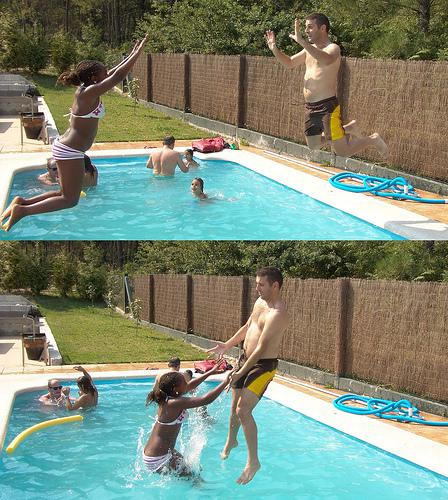human: (218, 262, 288, 479), (142, 361, 214, 481), (143, 133, 183, 182), (69, 362, 98, 410), (38, 376, 66, 406), (190, 170, 205, 200), (182, 145, 197, 167)
